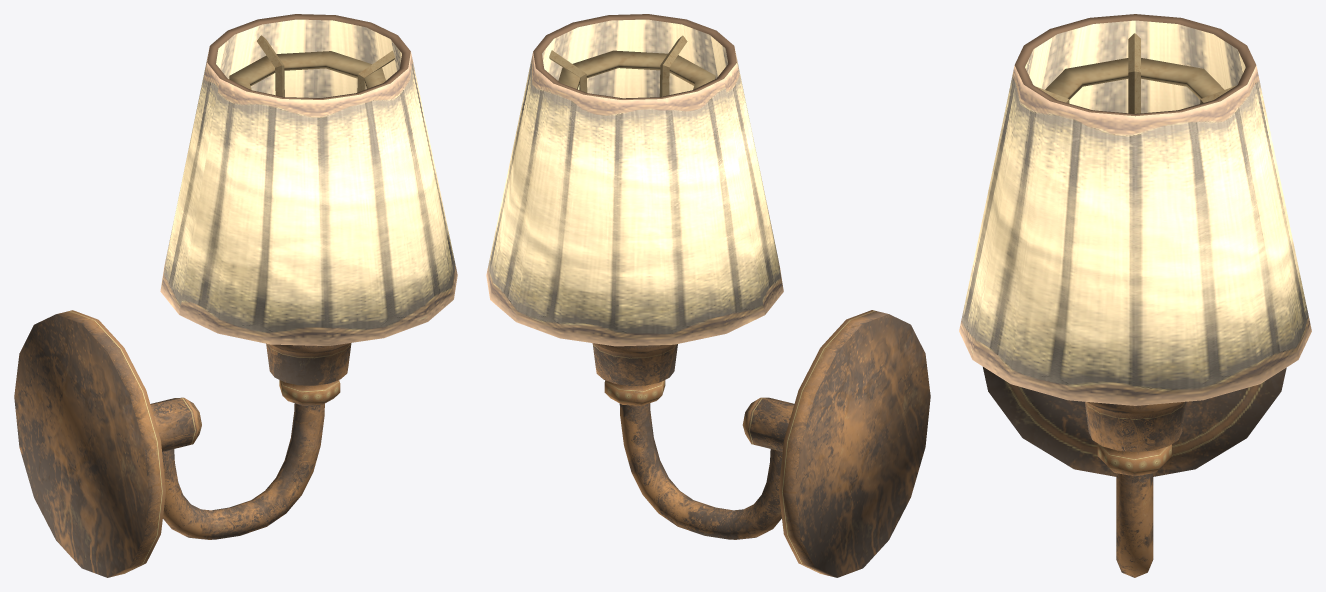
Rendered from Bra.fbx.
The picture shows the model from 3 angles, left to right: view 1: azimuth 30°, elevation 25°; view 2: azimuth 150°, elevation 25°; view 3: azimuth 270°, elevation 25°; orthographic projection. The views are drawn at different scales.
Visible parts, largest first — view 1: Bra_01, Lamp; view 2: Bra_01, Lamp; view 3: Bra_01, Lamp.
Boxes of the visible parts, <box> form: Bra_01: <box>14,14,457,577</box>; Lamp: <box>229,35,395,96</box>; Bra_01: <box>486,14,930,577</box>; Lamp: <box>549,35,715,96</box>; Bra_01: <box>959,14,1311,577</box>; Lamp: <box>1036,33,1236,113</box>.
Bounding box in the file's own units: 23.03 × 28.34 × 16.73.
2 materials, 2 textured.
